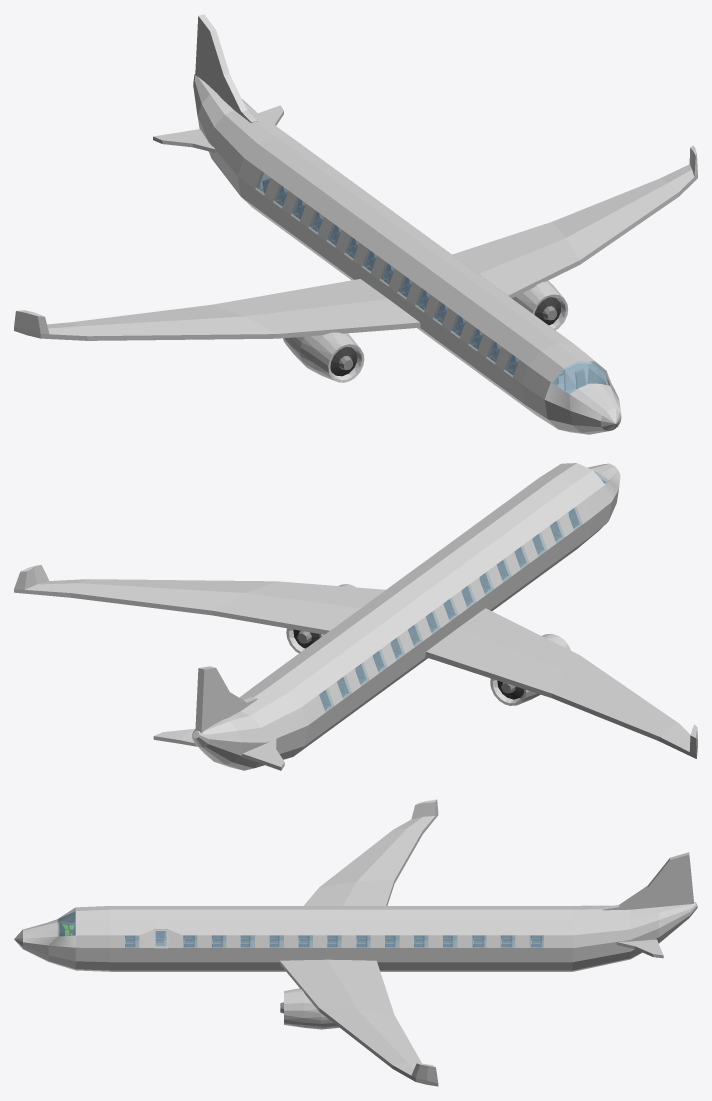
The model's file is flybyte.gltf.
3 renders of one model, top to bottom at view 1: azimuth 30°, elevation 25°; view 2: azimuth 150°, elevation 25°; view 3: azimuth 270°, elevation 25°, orthographic. The views are drawn at different scales.
Parts seen in each view (by area): view 1: PLANE; view 2: PLANE; view 3: PLANE.
Part boxes in pixels (box(x1,y1,x2,y2)): PLANE: box(14, 14, 697, 434); PLANE: box(14, 463, 697, 770); PLANE: box(14, 799, 697, 1086).
Bounding box in the file's own units: 37.33 × 8.63 × 39.78.
